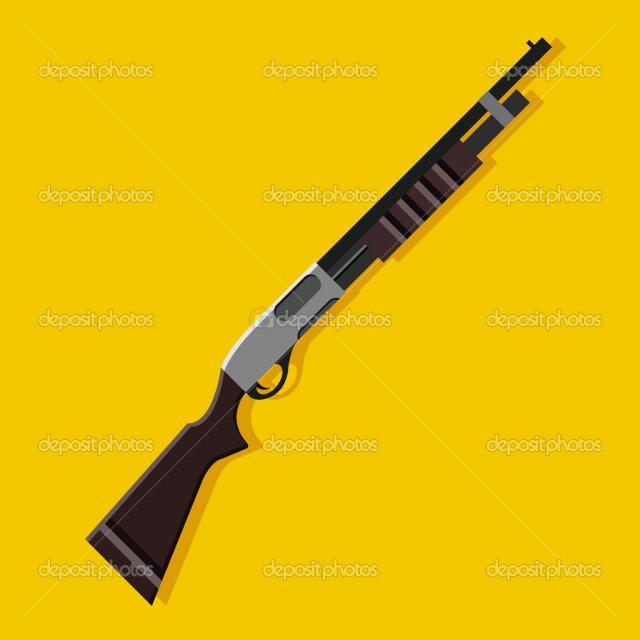shotgun: (65, 25, 580, 601)
